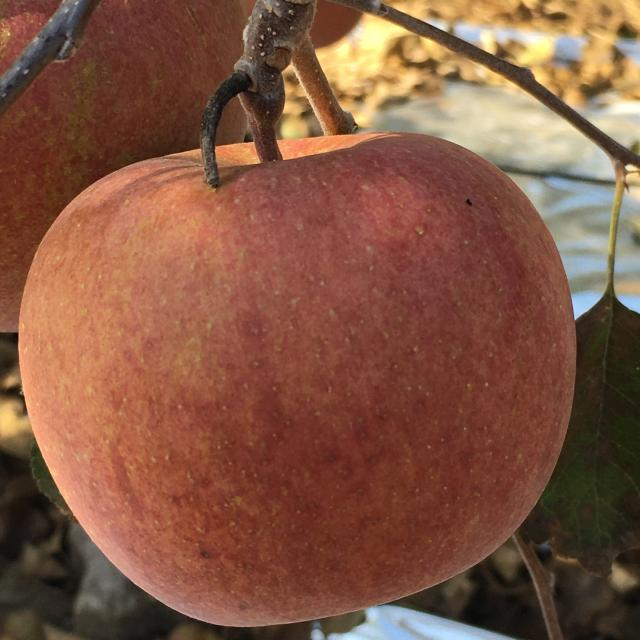fresh: (11, 123, 590, 639)
